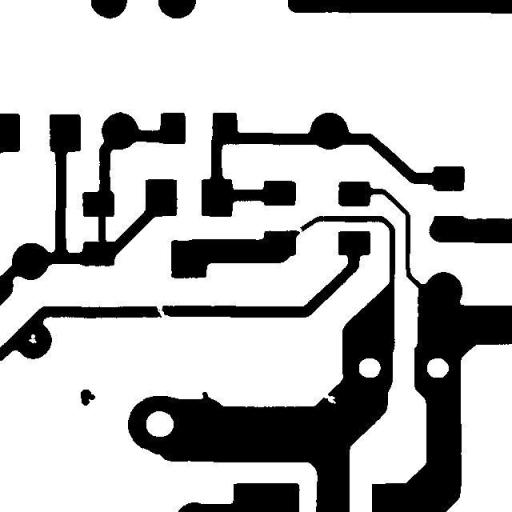copper: (73, 382, 102, 412)
mousebite: (315, 385, 343, 411)
open: (148, 296, 178, 326), (287, 220, 310, 241)
pin-hole: (21, 326, 44, 350)
short: (90, 202, 114, 252)
spur: (194, 384, 220, 410)
